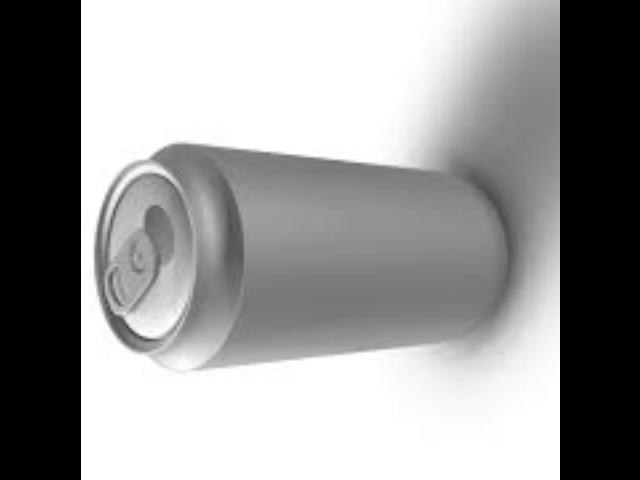metal: (91, 141, 501, 365)
